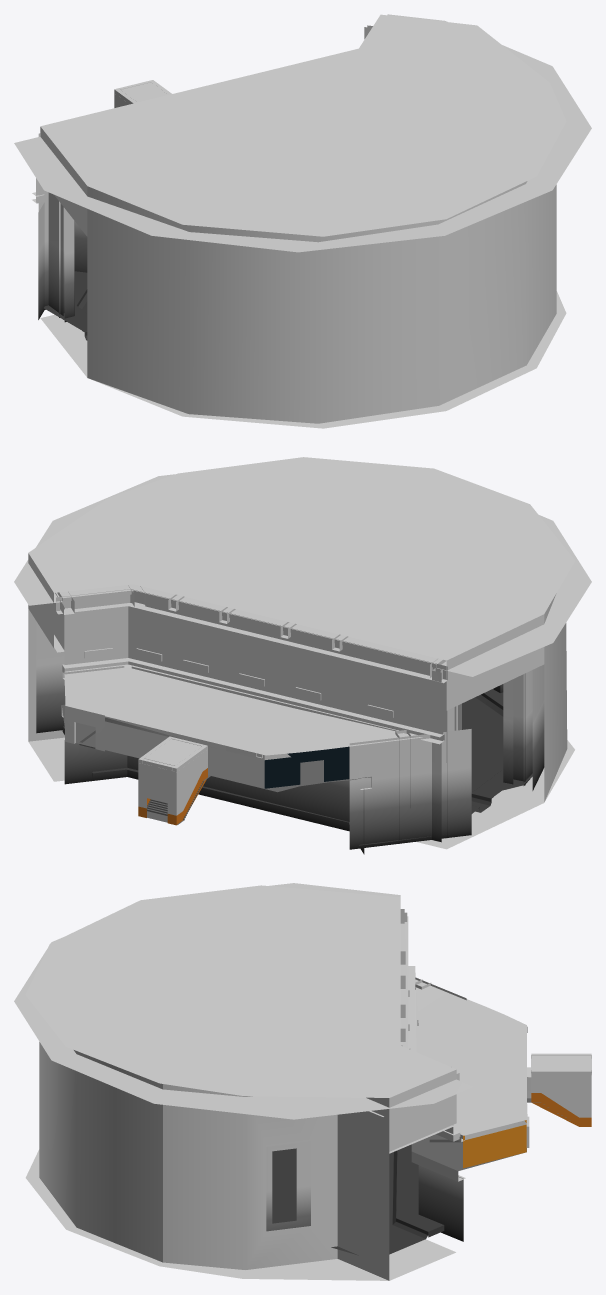
Rendered from SM_H_Building_Tide_WaterMaintain_01_ATLAS.fbx.
3 renders of one model, top to bottom at view 1: azimuth 30°, elevation 25°; view 2: azimuth 150°, elevation 25°; view 3: azimuth 270°, elevation 25°, orthographic. The views are drawn at different scales.
Visible parts, largest first — view 1: SM_H_Building_Tide_WaterMaintain_01_ATLAS; view 2: SM_H_Building_Tide_WaterMaintain_01_ATLAS; view 3: SM_H_Building_Tide_WaterMaintain_01_ATLAS.
Boxes of the visible parts, x1,y1,x2,y2 form: SM_H_Building_Tide_WaterMaintain_01_ATLAS: (14, 14, 591, 428); SM_H_Building_Tide_WaterMaintain_01_ATLAS: (14, 457, 591, 854); SM_H_Building_Tide_WaterMaintain_01_ATLAS: (14, 883, 591, 1280).
Bounding box in the file's own units: 6868 × 7090 × 2476.
